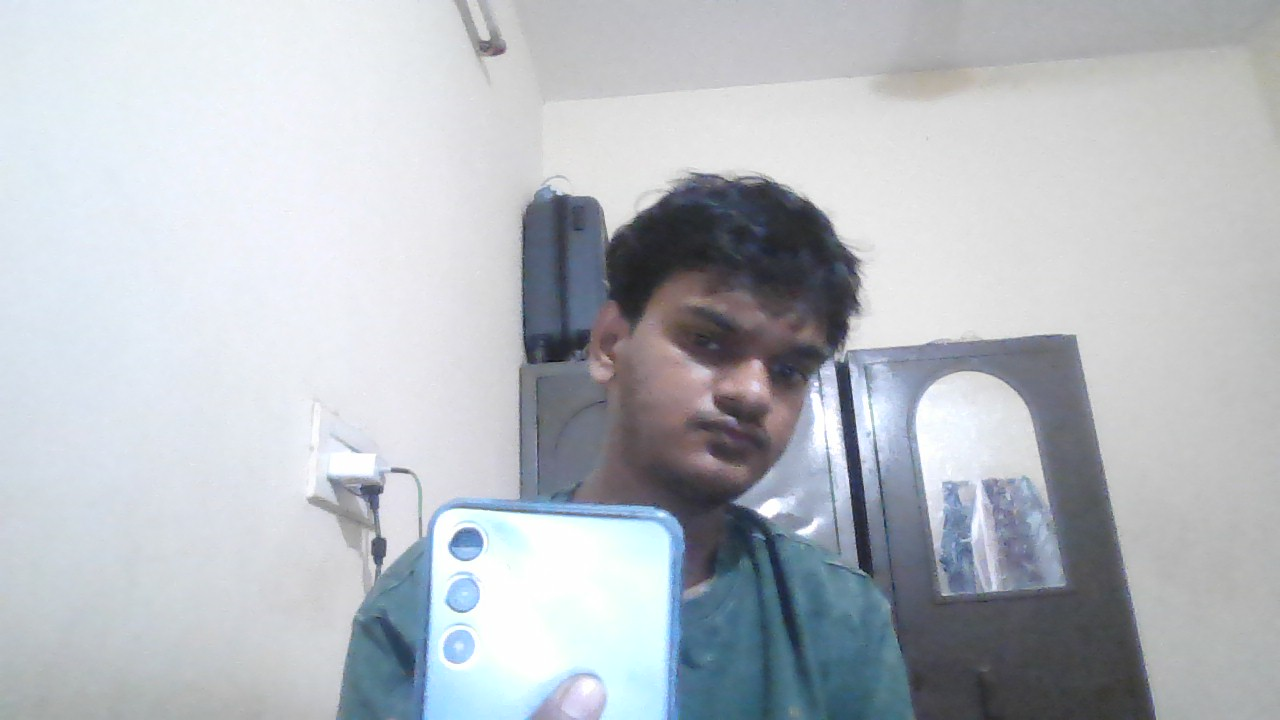phone: (421, 490, 679, 720)
